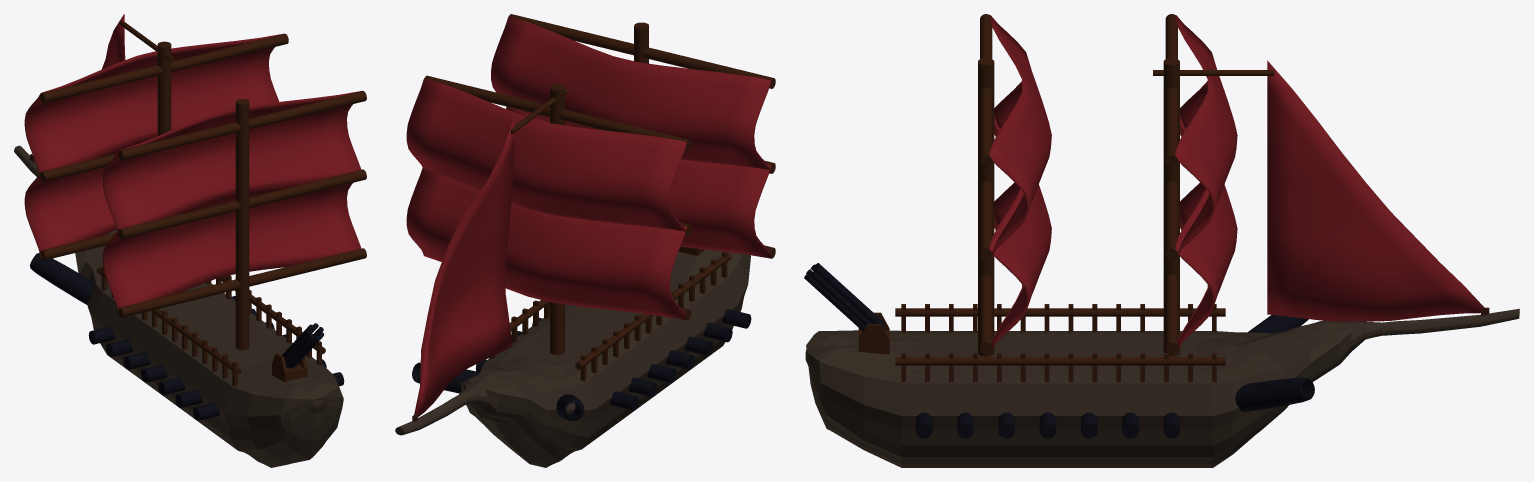
Rendered from MediumShip.fbx.
3 renders of one model, left to right at view 1: azimuth 30°, elevation 25°; view 2: azimuth 150°, elevation 25°; view 3: azimuth 270°, elevation 25°, orthographic. The views are drawn at different scales.
Parts seen in each view (by area): view 1: Rumpf, Segel1.003, Segel1.002, Segel1, Segel1.001, Hintermast, Cylinder.005, Cylinder.007, Cylinder.006, Cylinder.004, Cylinder, LeftCanon (+10 smaller); view 2: Rumpf, Segel1, Segel1.003, Segel1.001, Hochsegel, Segel1.002, Cylinder, Cylinder.005, Cylinder.004, LeftReling, Vordermast, Cylinder.012 (+4 smaller); view 3: Rumpf, Hochsegel, Segel1.003, Segel1, Segel1.002, Segel1.001, Cylinder.013, RightCanons, Cylinder.012, Vordermast, Hintermast, RightCanon (+10 smaller).
Part boxes in pixels (box(x1,y1,x2,y2)): Rumpf: box(14, 145, 343, 467); Segel1.003: box(102, 90, 362, 232); Segel1.002: box(102, 169, 362, 311); Segel1: box(24, 33, 284, 173); Segel1.001: box(24, 125, 181, 258); Hintermast: box(235, 99, 249, 349); Cylinder.005: box(118, 91, 366, 160); Cylinder.007: box(118, 248, 366, 317); Cylinder.006: box(118, 169, 366, 238); Cylinder.004: box(40, 34, 288, 103); Cylinder: box(88, 326, 219, 420); LeftCanon: box(30, 253, 92, 304); Rumpf: box(395, 249, 750, 467); Segel1: box(406, 78, 686, 235); Segel1.003: box(491, 16, 771, 173); Segel1.001: box(406, 168, 687, 320); Hochsegel: box(414, 118, 514, 416); Segel1.002: box(506, 106, 771, 258); Cylinder: box(610, 309, 751, 410); Cylinder.005: box(509, 14, 775, 88); Cylinder.004: box(425, 75, 691, 150); LeftReling: box(580, 251, 727, 381); Vordermast: box(550, 84, 564, 354); Cylinder.012: box(575, 253, 731, 369); Rumpf: box(805, 308, 1519, 467); Hochsegel: box(1267, 60, 1485, 321); Segel1.003: box(989, 15, 1051, 254); Segel1: box(1175, 15, 1237, 254); Segel1.002: box(989, 116, 1051, 348); Segel1.001: box(1175, 116, 1237, 348); Cylinder.013: box(895, 357, 1225, 365); RightCanons: box(916, 412, 1179, 438); Cylinder.012: box(895, 308, 1225, 316); Vordermast: box(1163, 58, 1179, 356); Hintermast: box(978, 58, 994, 356); RightCanon: box(1235, 377, 1314, 411).
Bounding box in the file's own units: 2025 × 2699 × 4337.
